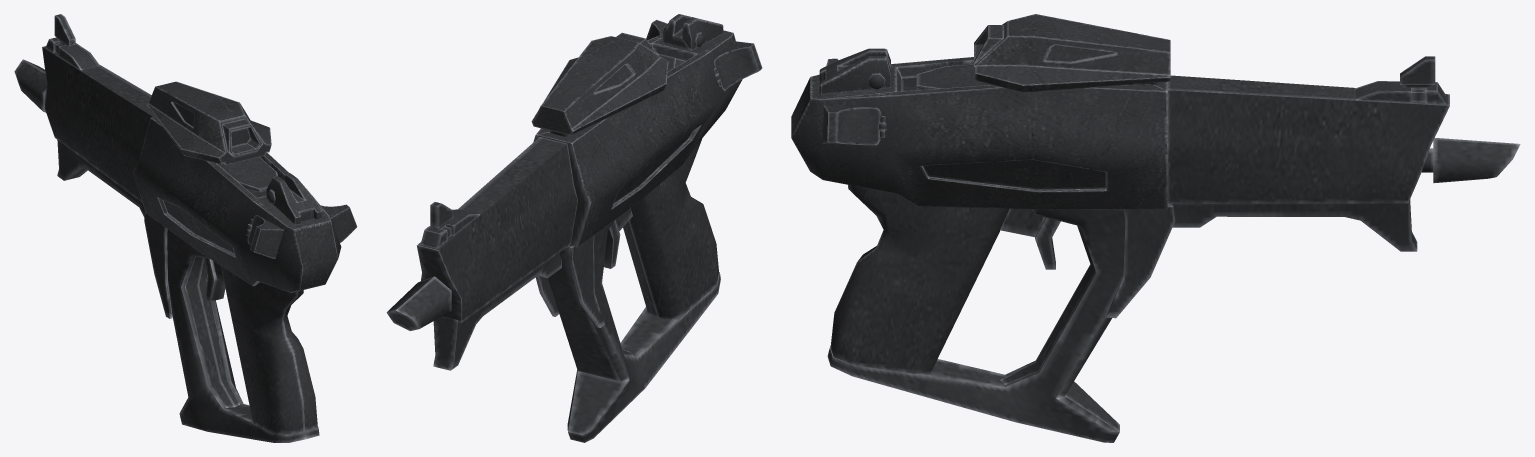
Rendered from pistol_test.fbx.
The picture shows the model from 3 angles, left to right: view 1: azimuth 30°, elevation 25°; view 2: azimuth 150°, elevation 25°; view 3: azimuth 270°, elevation 25°; orthographic projection. The views are drawn at different scales.
Visible parts, largest first — view 1: Pistol_Scope_Hyperion2; view 2: Pistol_Scope_Hyperion2; view 3: Pistol_Scope_Hyperion2.
Boxes of the visible parts, x1,y1,x2,y2 form: Pistol_Scope_Hyperion2: (14, 14, 357, 442); Pistol_Scope_Hyperion2: (386, 14, 762, 442); Pistol_Scope_Hyperion2: (791, 14, 1520, 442).
Size of the model in its own units: 25.27 by 78.03 by 125.
1 material, 1 textured.
